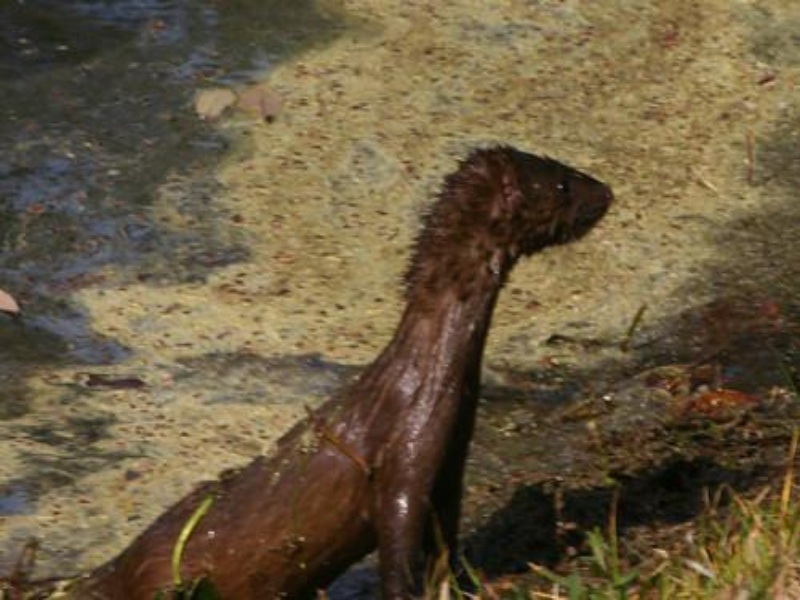minkish: (71, 140, 617, 596)
